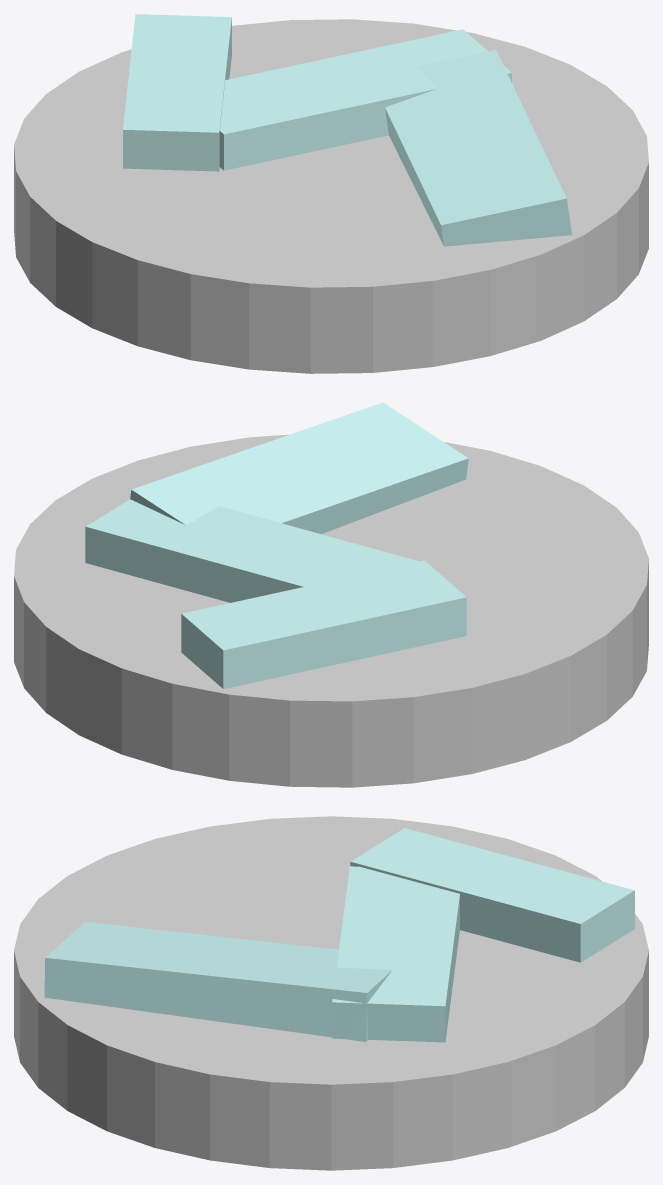
The model's file is Rune6.fbx.
3 views of the same model, one above another, from view 1: azimuth 30°, elevation 25°; view 2: azimuth 150°, elevation 25°; view 3: azimuth 270°, elevation 25° (orthographic).
Parts seen in each view (by area): view 1: Cylinder, Cube, Cube.001, Cube.002; view 2: Cylinder, Cube, Cube.002, Cube.001; view 3: Cylinder, Cube, Cube.002, Cube.001.
Boxes of the visible parts, <box> form: Cylinder: <box>14,19,648,373</box>; Cube: <box>385,49,571,246</box>; Cube.001: <box>219,29,511,170</box>; Cube.002: <box>123,14,231,171</box>; Cylinder: <box>14,434,648,787</box>; Cube: <box>130,402,468,534</box>; Cube.002: <box>181,560,466,689</box>; Cube.001: <box>85,499,419,602</box>; Cylinder: <box>14,816,648,1170</box>; Cube: <box>44,922,392,1041</box>; Cube.002: <box>350,828,634,962</box>; Cube.001: <box>332,866,459,1042</box>.
Size of the model in its own units: 200 by 45.95 by 200.
